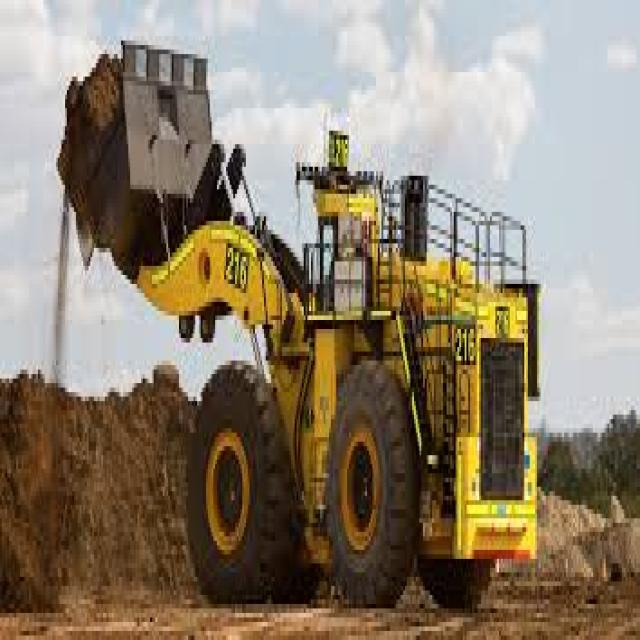buldozerpayloadergrader: (73, 38, 542, 602)
